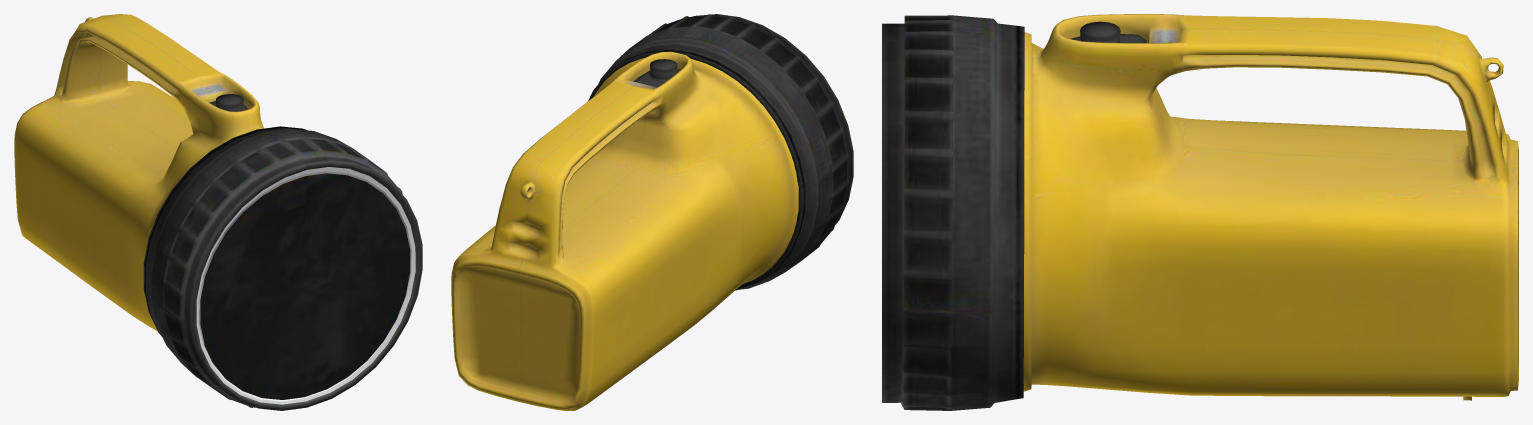
The picture shows the model from 3 angles, left to right: view 1: azimuth 30°, elevation 25°; view 2: azimuth 150°, elevation 25°; view 3: azimuth 270°, elevation 25°; orthographic projection. The views are drawn at different scales.
Visible parts, largest first — view 1: pastic_torch_6v; view 2: pastic_torch_6v; view 3: pastic_torch_6v.
Boxes of the visible parts, x1,y1,x2,y2 form: pastic_torch_6v: [14, 14, 422, 410]; pastic_torch_6v: [451, 14, 853, 410]; pastic_torch_6v: [882, 14, 1518, 410].
Bounding box in the file's own units: 0.1369 × 0.1417 × 0.2242.
2 materials, 2 textured.
